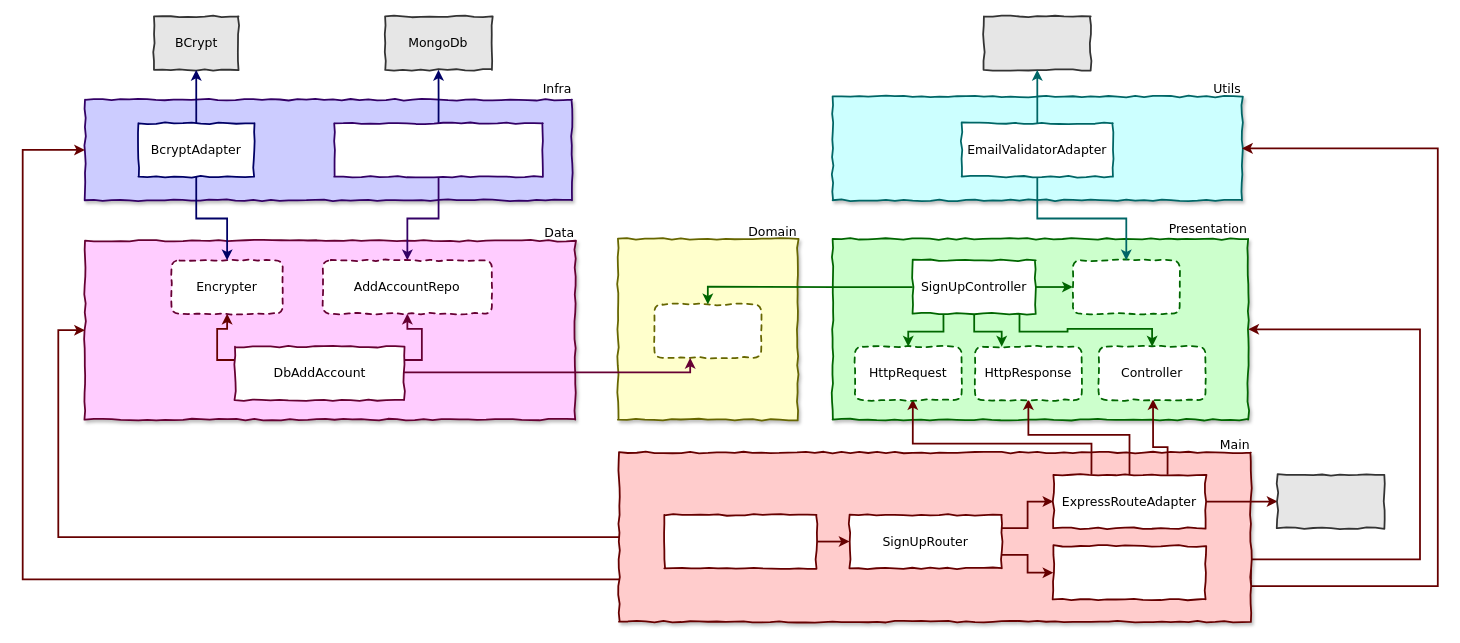
Image size: 1460x643. Some labels were removed from this diagram. The shapes that lost their labels are listed below. From the top down, each one's centre as x and y in pixels, then its label:
the point at 1037,42: Validator
the point at 438,149: AccountMongoRepo
the point at 1126,286: EmailValidator
the point at 707,330: AddAccount
the point at 1330,501: Express
the point at 740,541: App
the point at 1129,572: SignUpFactory
